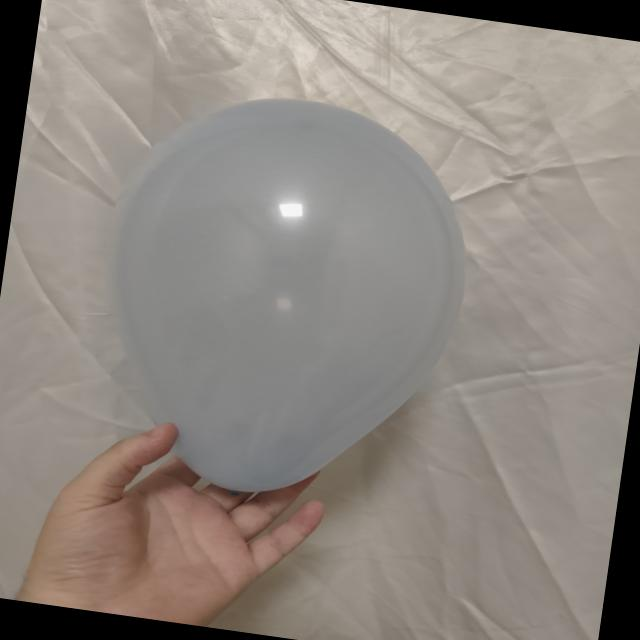balloon: (112, 99, 464, 492)
